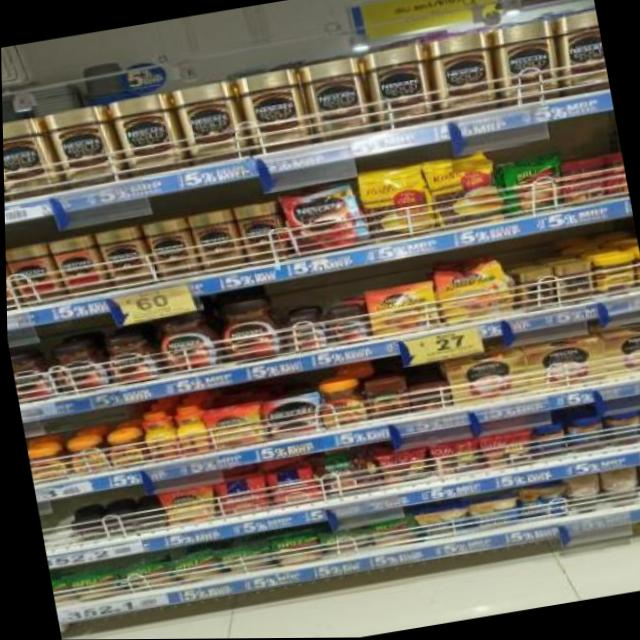Coffee: (169, 79, 250, 166), (104, 93, 185, 179), (295, 55, 374, 142), (490, 18, 565, 108), (426, 31, 502, 119), (43, 104, 120, 190), (361, 43, 435, 131), (235, 67, 311, 152), (279, 187, 365, 254), (150, 307, 224, 377), (432, 261, 511, 326), (2, 114, 60, 201), (212, 296, 284, 365), (550, 10, 609, 93), (363, 282, 436, 337), (96, 225, 153, 290), (187, 208, 243, 274), (47, 338, 109, 396), (143, 216, 196, 282), (101, 331, 161, 387), (233, 202, 283, 268), (255, 394, 320, 438), (313, 379, 367, 428), (201, 404, 261, 448), (8, 347, 55, 401), (159, 485, 213, 525), (278, 313, 328, 354), (139, 409, 179, 460), (550, 262, 593, 306), (170, 403, 207, 454), (323, 305, 369, 346), (512, 269, 555, 312), (102, 431, 147, 470), (24, 445, 68, 483), (64, 439, 105, 476), (69, 518, 102, 543), (134, 507, 166, 531), (104, 510, 135, 534)
